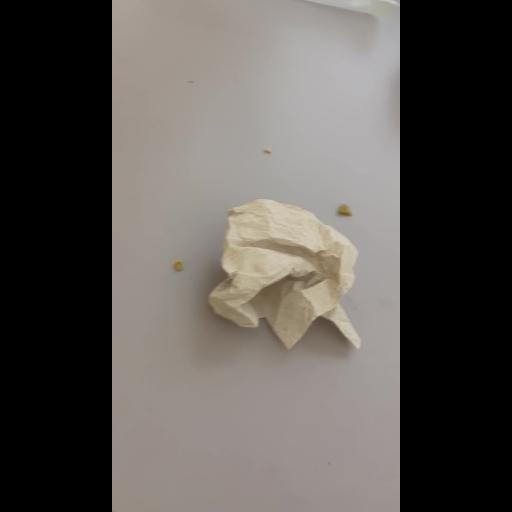napkin: (204, 148, 362, 422)
